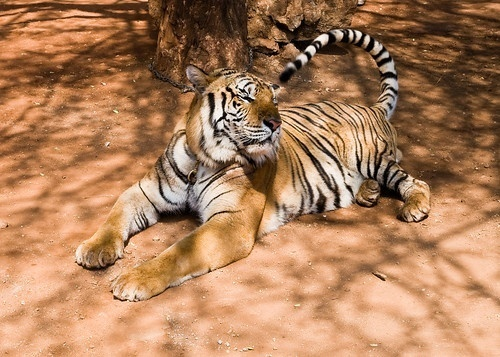tigre: (74, 27, 432, 301)
